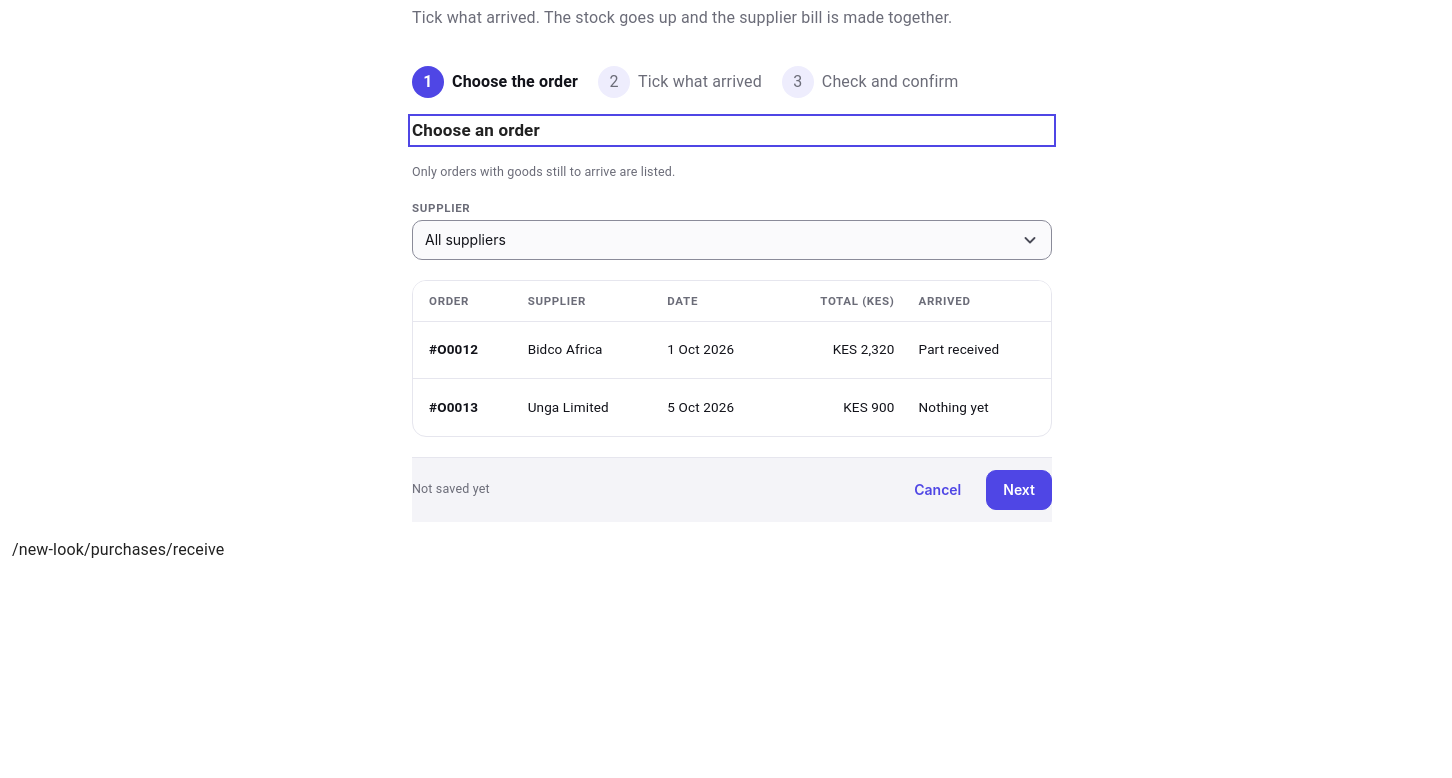
Test case: step 2: tick what arrived and enter the quantity received › a line with nothing left to arrive cannot be ticked and has no quantity field
What coordinates should you click on to do the following:
click the row "#O0012 Bidco Africa 1 Oct 2026 KES 2,320 Part received"
I would click on:
 (732, 350)
Its box is [413,322,1051,379].
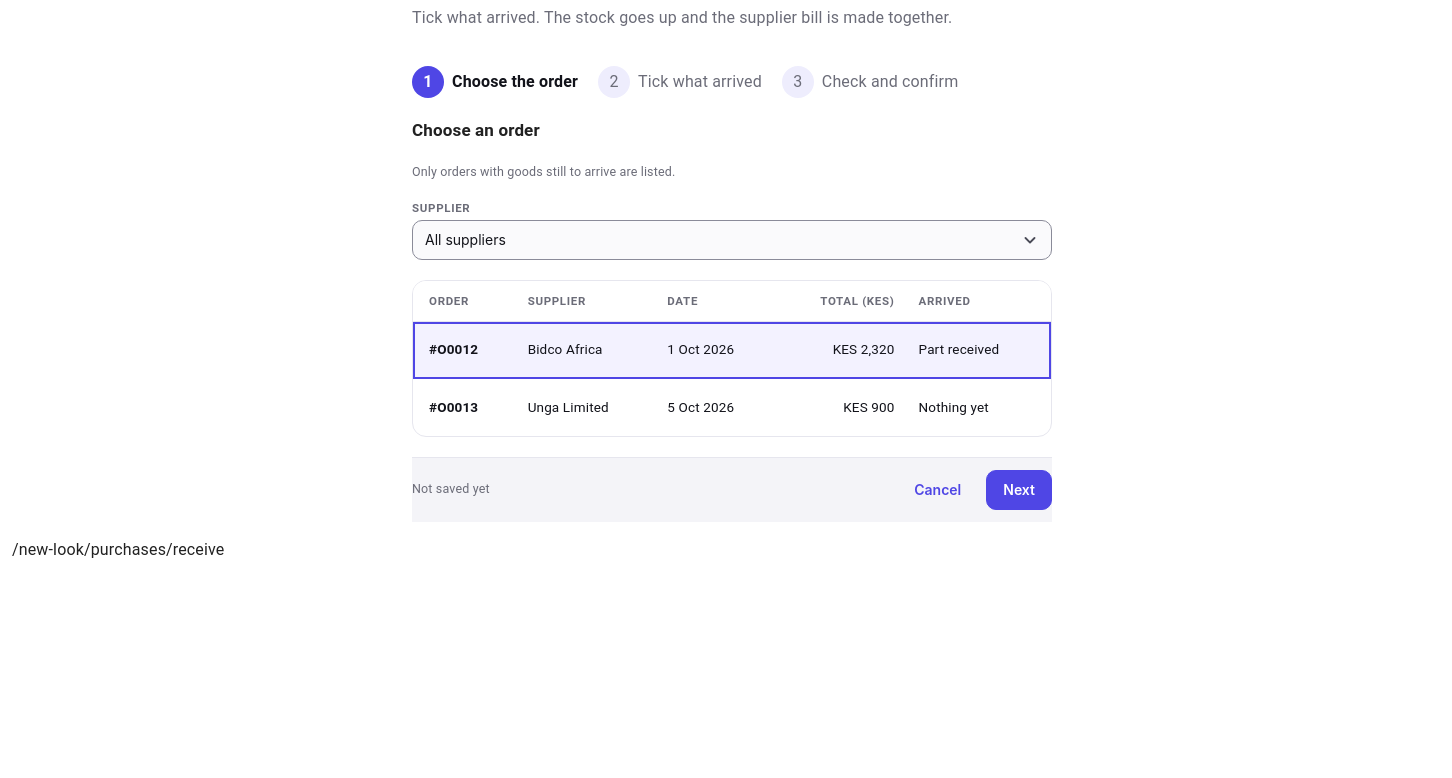
What coordinates should you click on to do the following:
click the button "Next"
I would click on:
 (1019, 490)
Its box is [986,470,1052,510].
(page scrolled)
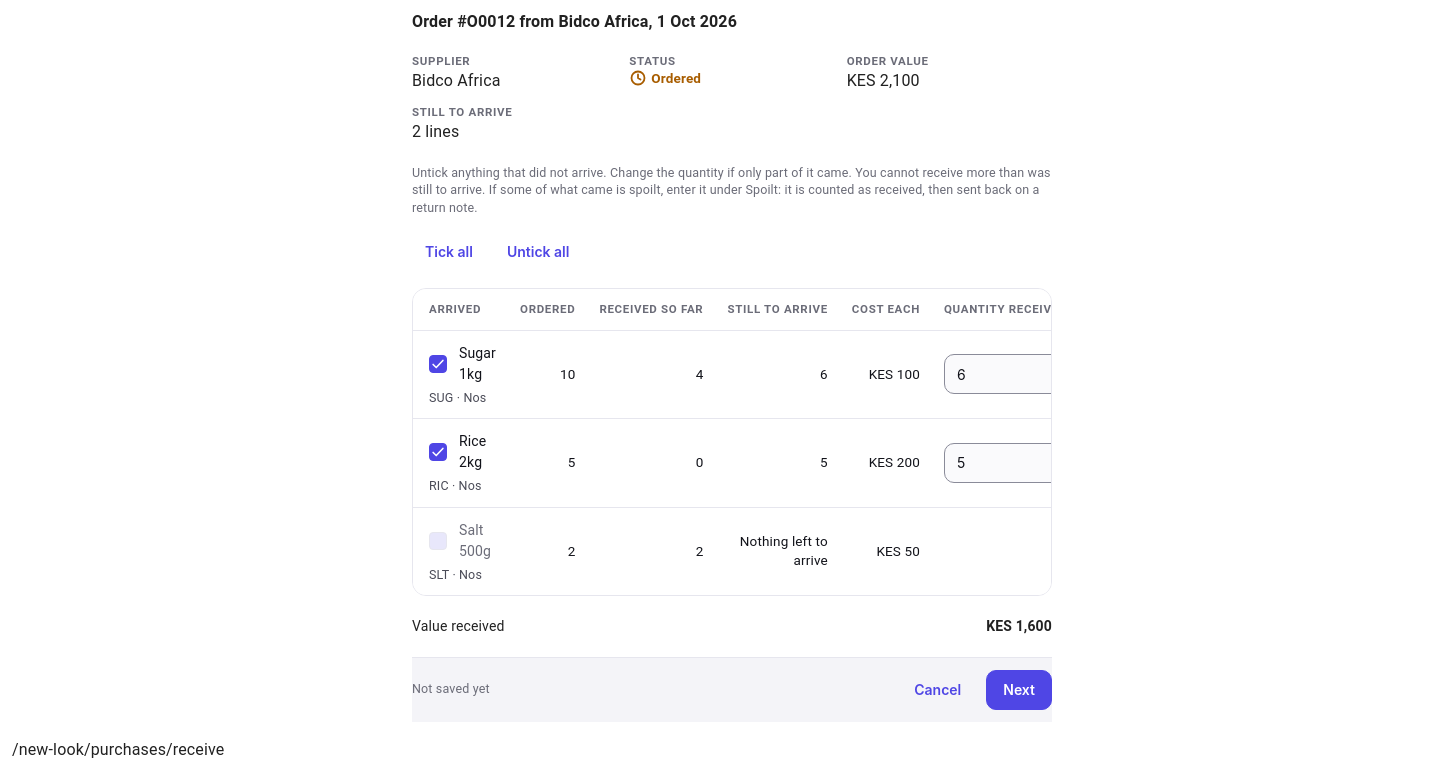
Check: the checkbox labelled "Salt 500g" is disabled, box [429,520,496,562]
Check: the text "Nothing left to arrive" is shown, box [715,508,840,595]
